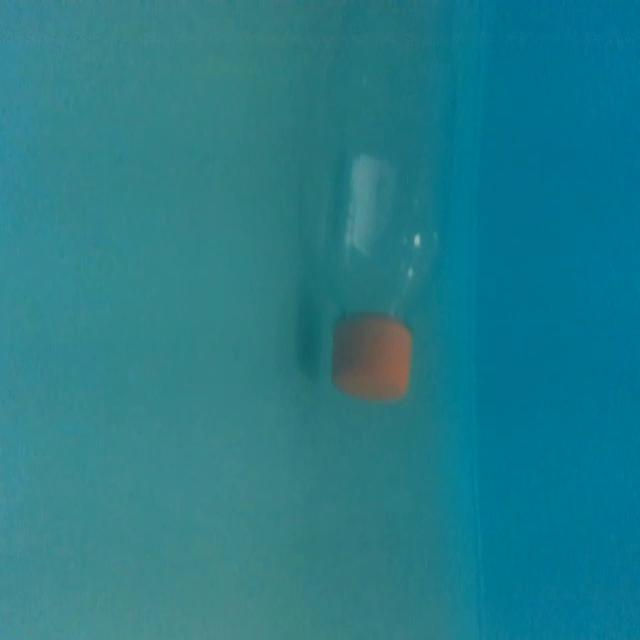plastic bottle: (302, 4, 467, 410)
